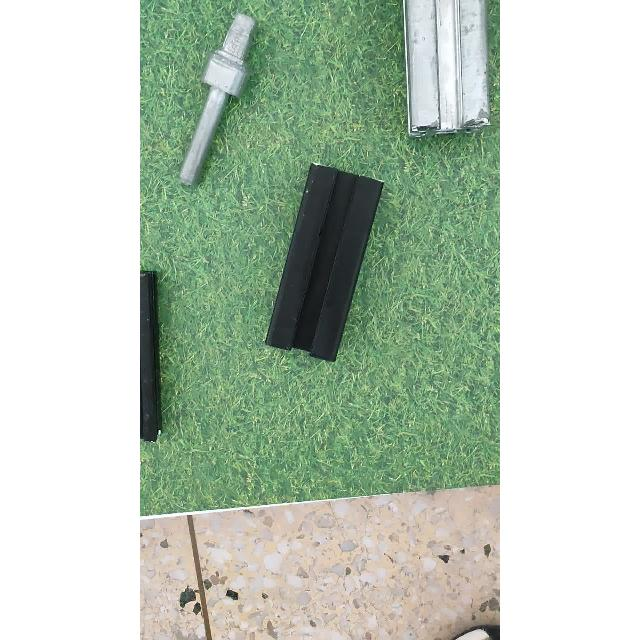Axis2: (170, 10, 262, 188)
F20_20_B: (140, 267, 163, 443)
S40_40_B: (260, 160, 388, 364)
S40_40_G: (398, 0, 494, 142)
